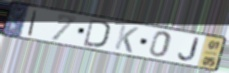0: (147, 30, 173, 59)
7: (52, 13, 78, 42)
D: (83, 18, 112, 49)
I: (26, 9, 39, 37)
J: (177, 37, 201, 62)
K: (113, 24, 140, 55)
